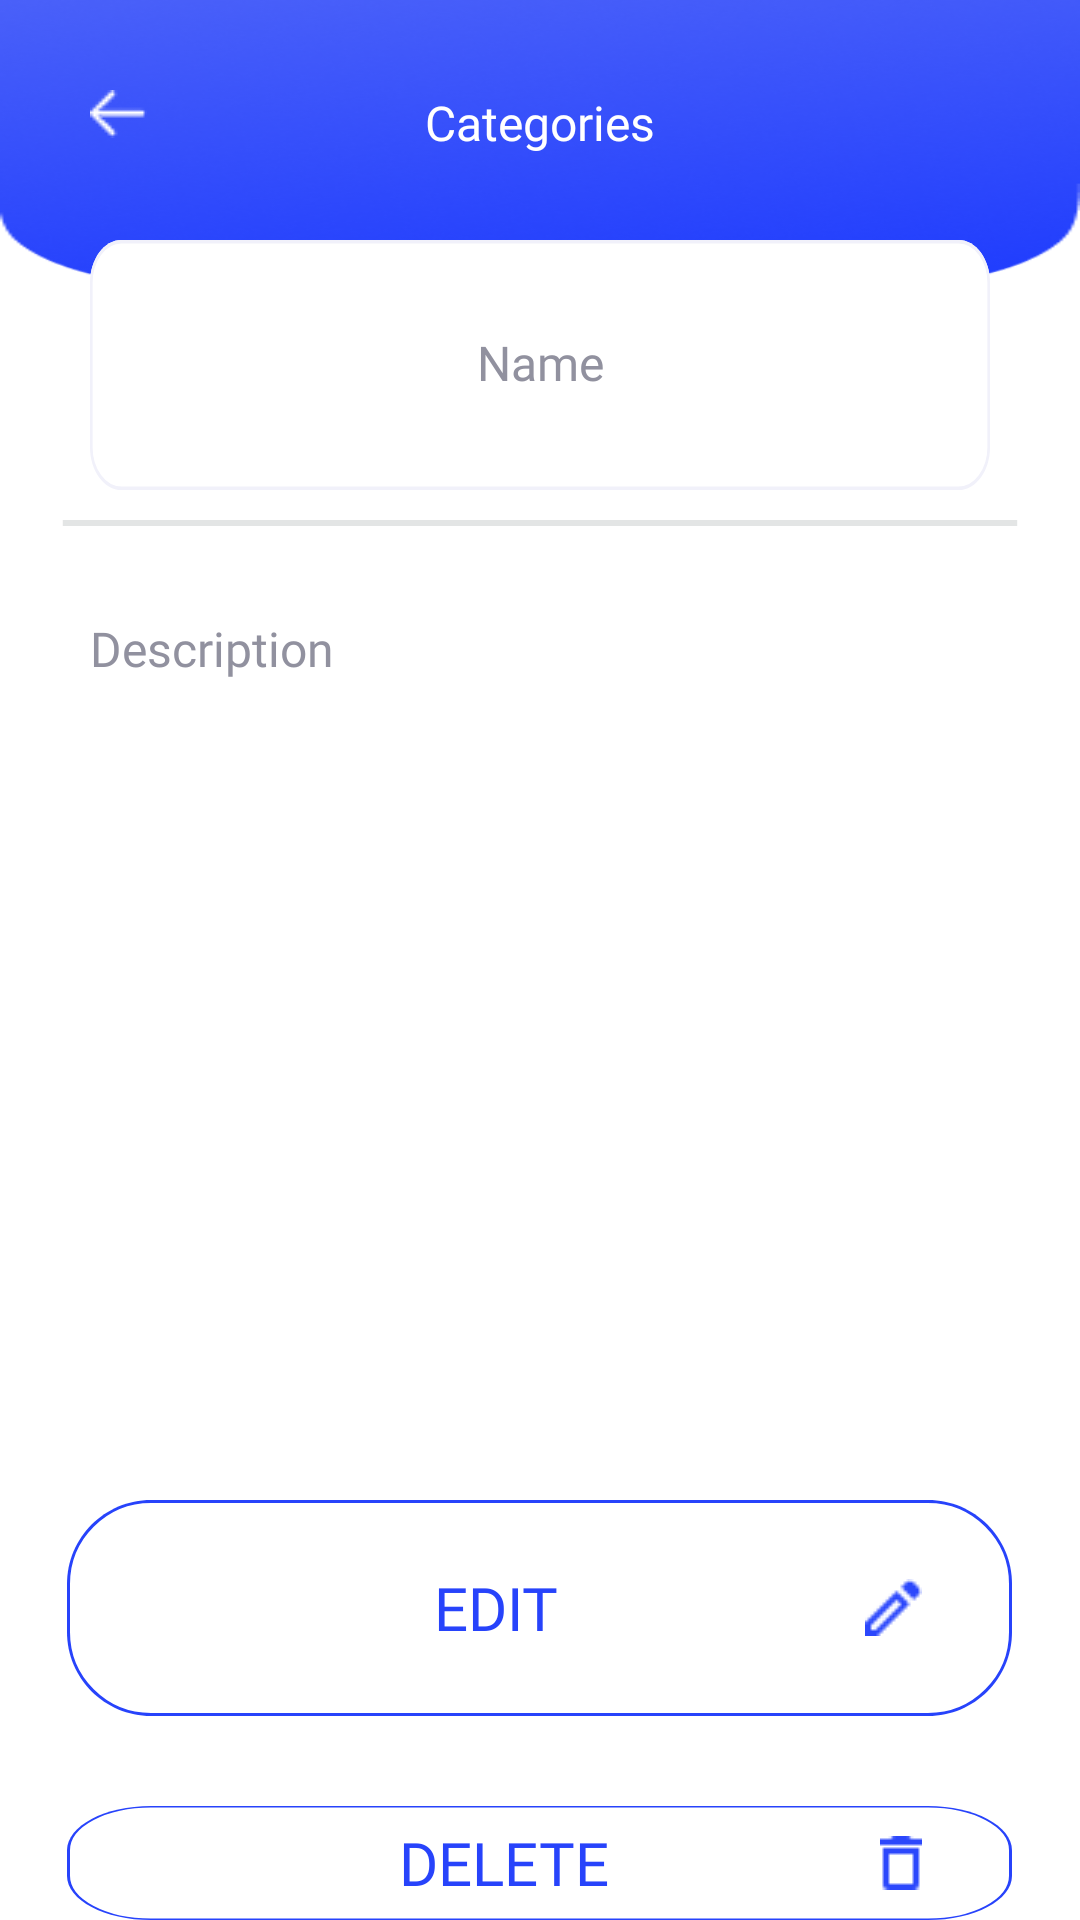

Screen size 1080 × 1920. Icon name, then its box in pixels as {"left": x1, "top": y1, "right": x2, "bottom": y2}:
back: {"left": 90, "top": 90, "right": 145, "bottom": 136}
